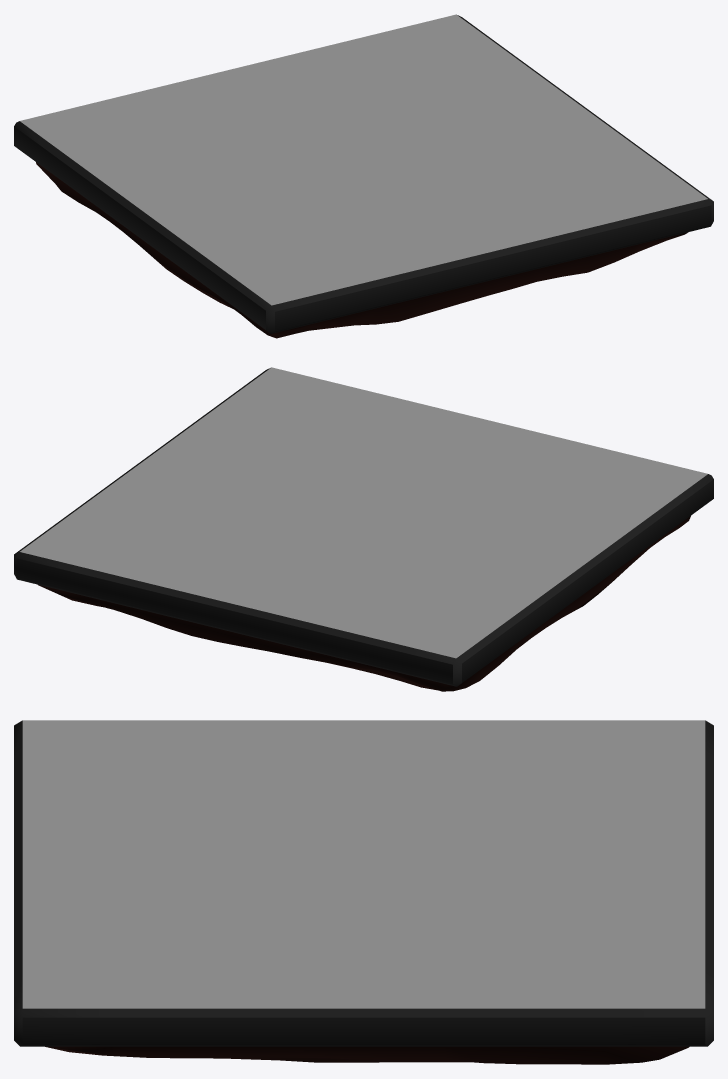
The model's file is MET_Platforme_Moyen_Pierre_01_LOD0.fbx.
The picture shows the model from 3 angles, top to bottom: view 1: azimuth 30°, elevation 25°; view 2: azimuth 150°, elevation 25°; view 3: azimuth 270°, elevation 25°; orthographic projection. The views are drawn at different scales.
Parts seen in each view (by area): view 1: MET_Platforme_Moyen_Pierre_01_LOD0; view 2: MET_Platforme_Moyen_Pierre_01_LOD0; view 3: MET_Platforme_Moyen_Pierre_01_LOD0.
Boxes of the visible parts, x1,y1,x2,y2 form: MET_Platforme_Moyen_Pierre_01_LOD0: (14, 14, 713, 338); MET_Platforme_Moyen_Pierre_01_LOD0: (14, 367, 713, 691); MET_Platforme_Moyen_Pierre_01_LOD0: (14, 720, 713, 1064).
Bounding box in the file's own units: 600 × 80.23 × 600.
